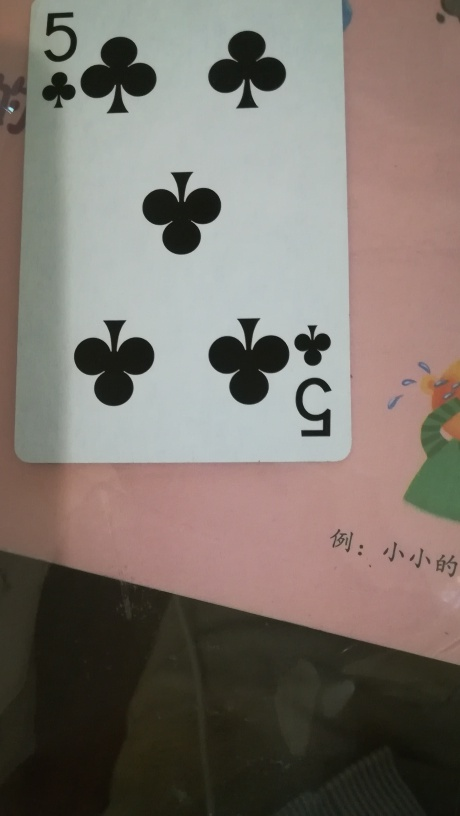mh 5: (19, 1, 349, 467)
